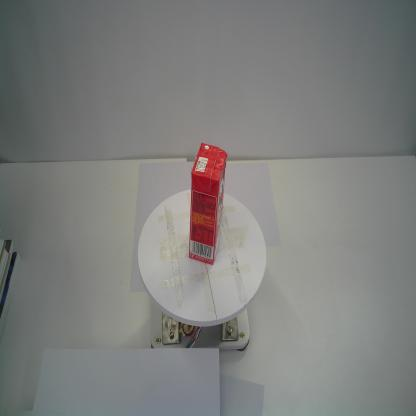Milk: (187, 141, 229, 267)
